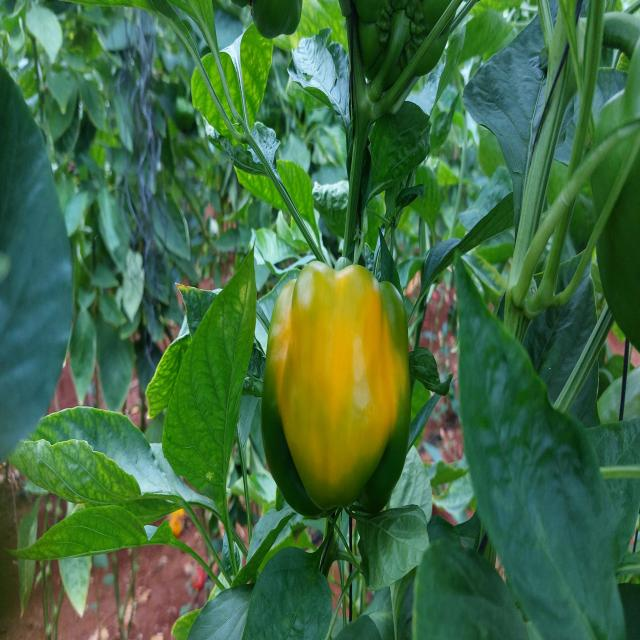GreenishYellow--Can-be-Harvested: (263, 241, 426, 528)
